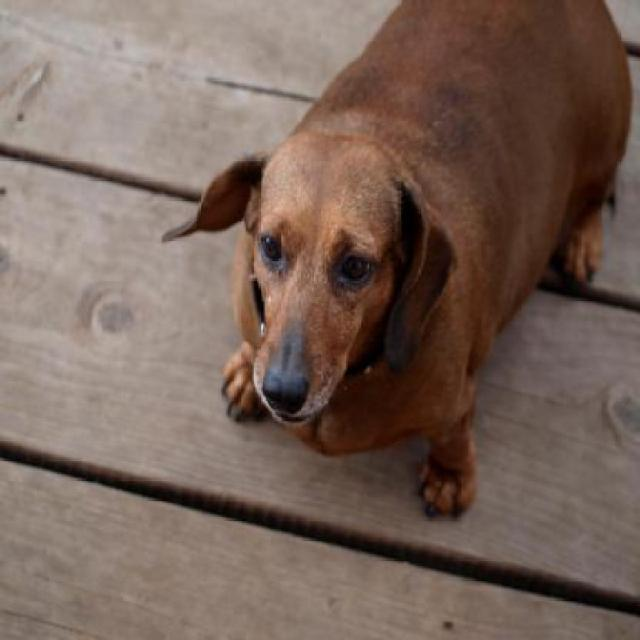Dog: (155, 2, 632, 524)
